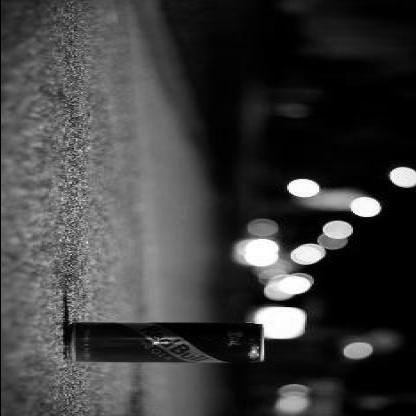alumunium_can: (66, 320, 266, 366)
